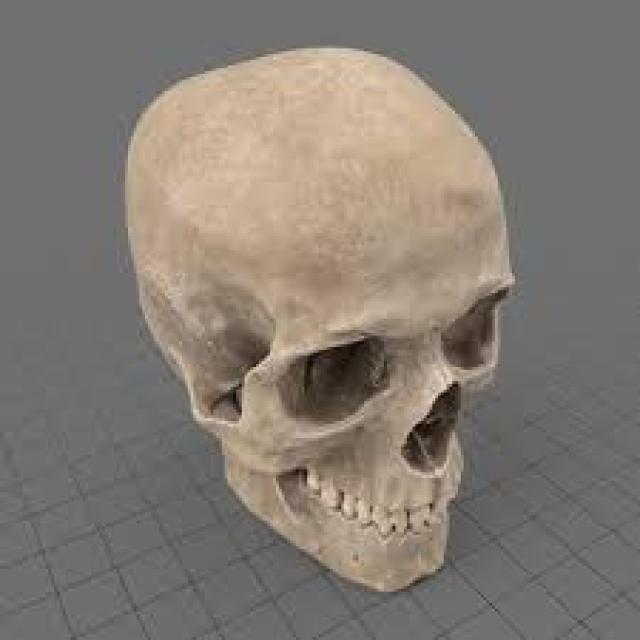skull: (103, 33, 546, 602)
